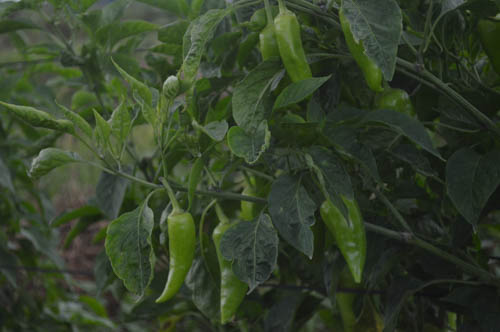ChiliPepper: (320, 198, 364, 282), (210, 223, 246, 323), (154, 216, 193, 301), (274, 13, 315, 91), (340, 13, 381, 87), (237, 188, 269, 217), (255, 25, 278, 61), (381, 87, 410, 113)
